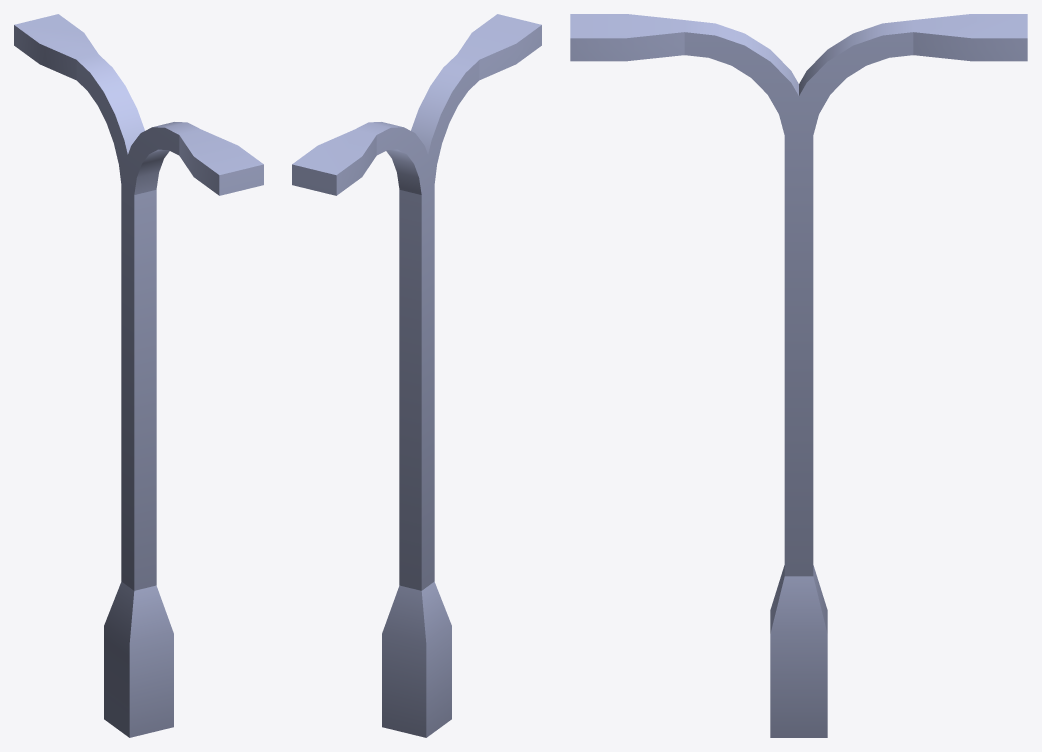
Rendered from light-curved-double.glb.
The picture shows the model from 3 angles, left to right: view 1: azimuth 30°, elevation 25°; view 2: azimuth 150°, elevation 25°; view 3: azimuth 270°, elevation 25°; orthographic projection. The views are drawn at different scales.
Parts seen in each view (by area): view 1: light-curved-double; view 2: light-curved-double; view 3: light-curved-double.
Part boxes in pixels (<box>): light-curved-double: <box>14,14,263,737</box>; light-curved-double: <box>292,14,541,737</box>; light-curved-double: <box>570,14,1027,737</box>.
Size of the model in its own units: 0.05 by 0.675 by 0.4.
Materials: 1 (1 with a texture image).
